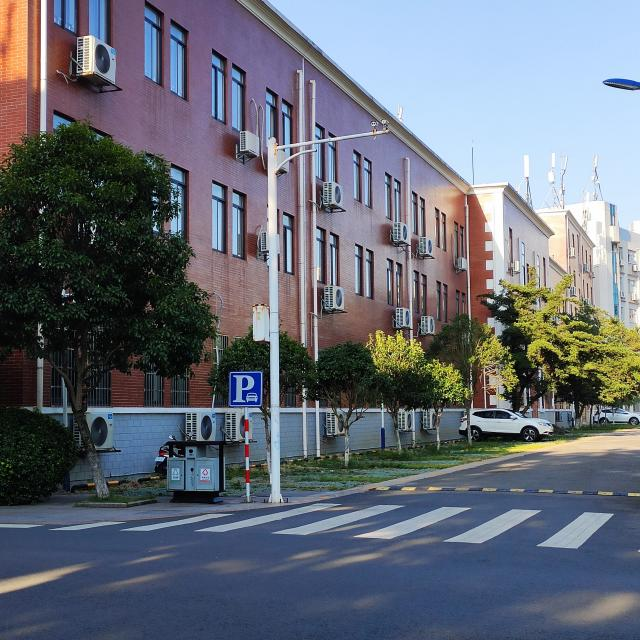ash bin: (162, 439, 228, 504)
car: (458, 408, 554, 442), (593, 408, 640, 425)
motorbike: (154, 432, 195, 472)
pole: (262, 153, 286, 502)
warning_column: (243, 406, 251, 502)
